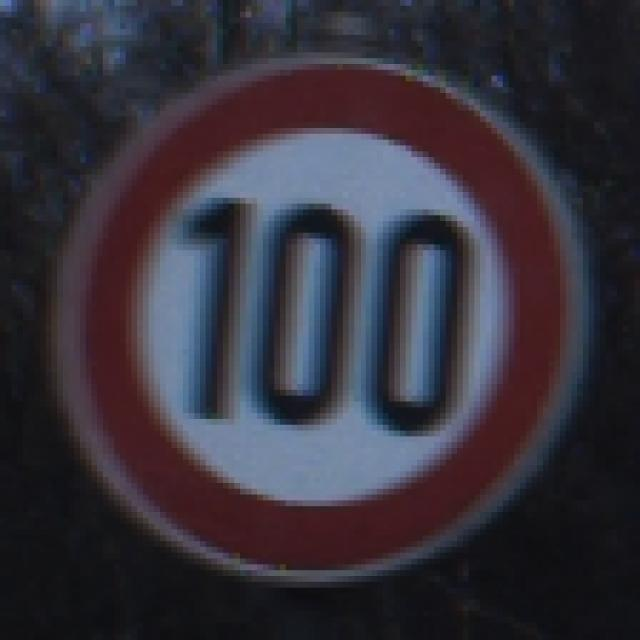speed limit 100: (37, 44, 597, 595)
